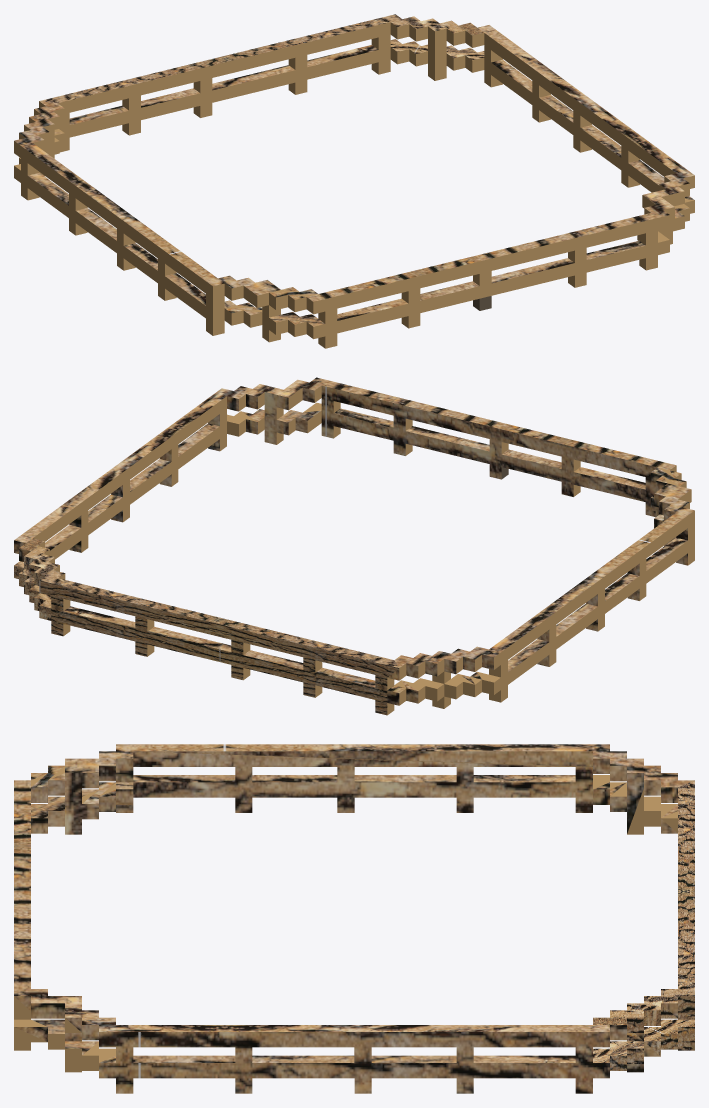
Rendered from cercaIsla.obj.
3 renders of one model, top to bottom at view 1: azimuth 30°, elevation 25°; view 2: azimuth 150°, elevation 25°; view 3: azimuth 270°, elevation 25°, orthographic. The views are drawn at different scales.
Visible parts, largest first — view 1: cercaIsla; view 2: cercaIsla; view 3: cercaIsla.
Part boxes in pixels (left/top/right/bottom): cercaIsla: left=14, top=14, right=694, bottom=348; cercaIsla: left=14, top=377, right=694, bottom=715; cercaIsla: left=14, top=744, right=694, bottom=1093.
Size of the model in its own units: 10 by 1 by 10.
